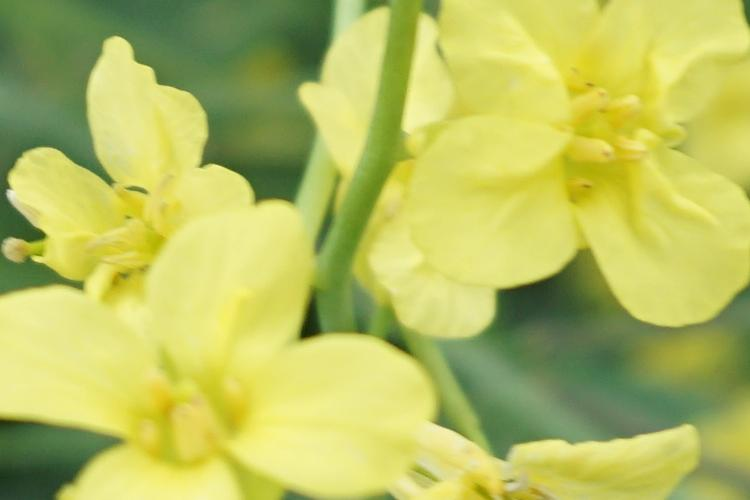yellow: (346, 23, 745, 338), (49, 248, 427, 489), (16, 65, 255, 284), (409, 413, 691, 497)
